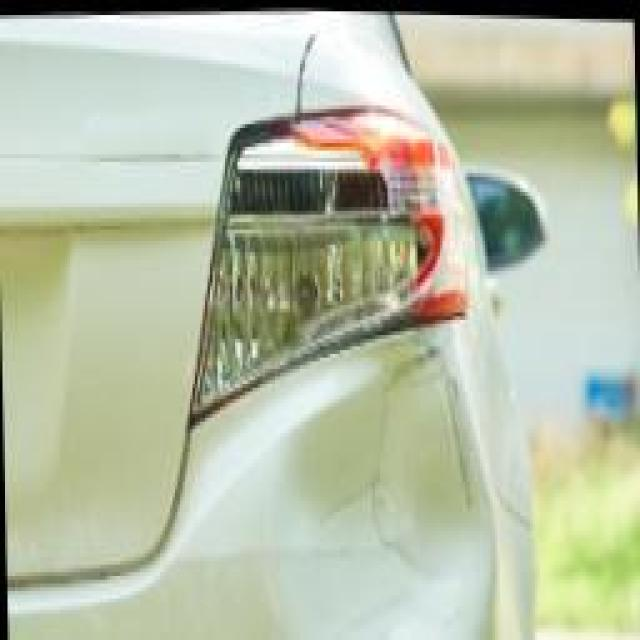Bumper: (358, 320, 492, 583)
Light: (202, 109, 452, 345)
